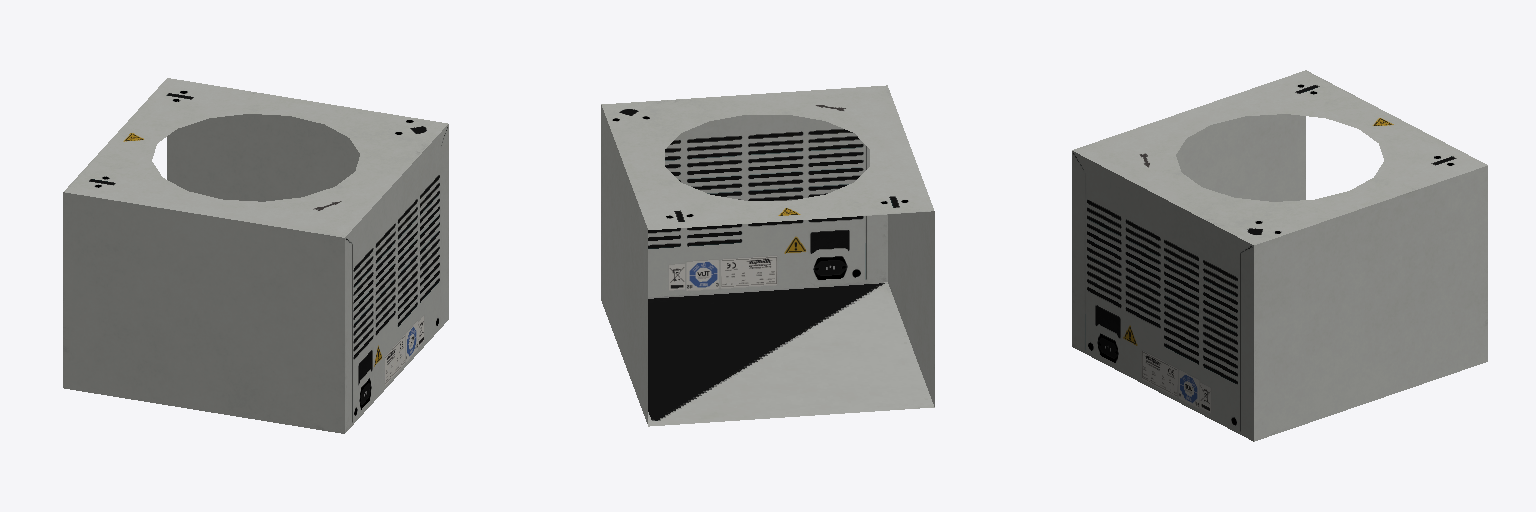
3 views of the same model, side by side, from view 1: azimuth 30°, elevation 25°; view 2: azimuth 150°, elevation 25°; view 3: azimuth 270°, elevation 25° (orthographic).
Visible parts, largest first — view 1: body_01_low; view 2: body_01_low; view 3: body_01_low.
Part boxes in pixels (left/top/right/bottom): body_01_low: left=63, top=78, right=448, bottom=433; body_01_low: left=601, top=85, right=934, bottom=426; body_01_low: left=1072, top=70, right=1487, bottom=441.
Size of the model in its own units: 6.54 by 3.41 by 6.57.
1 materials, 1 textured.